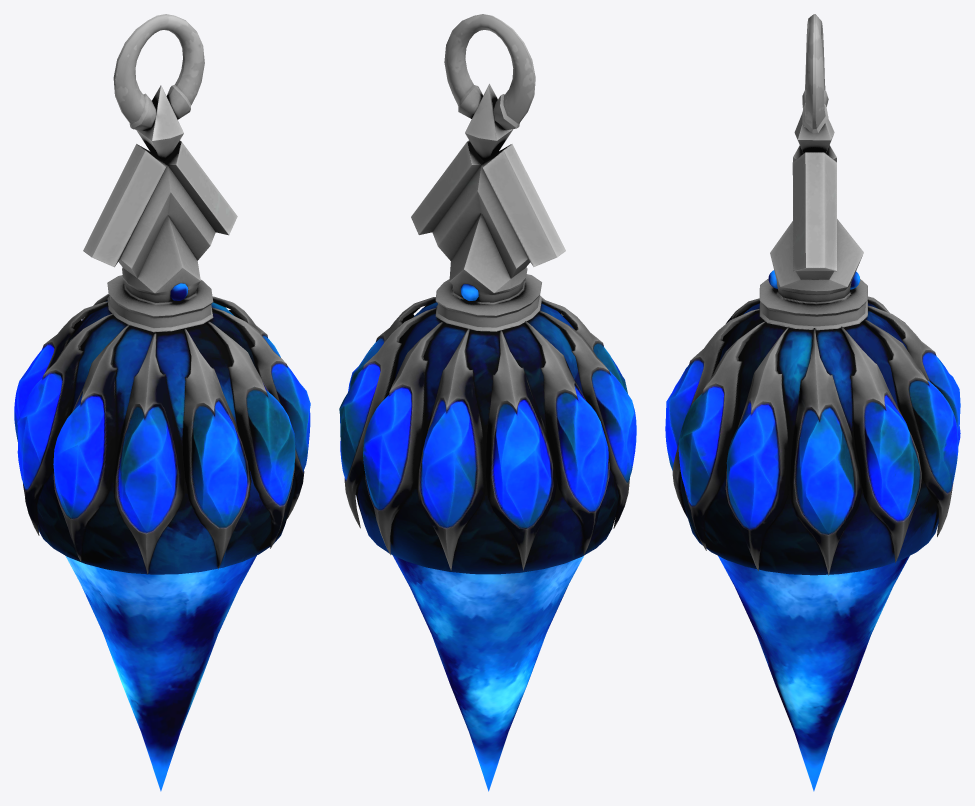
Rendered from Kriaz 1.fbx.
The picture shows the model from 3 angles, left to right: view 1: azimuth 30°, elevation 25°; view 2: azimuth 150°, elevation 25°; view 3: azimuth 270°, elevation 25°; orthographic projection.
Visible parts, largest first — view 1: Kriaz 1; view 2: Kriaz 1; view 3: Kriaz 1.
Part boxes in pixels (x1,y1,x2,y2): Kriaz 1: (14,14,310,791); Kriaz 1: (339,14,636,791); Kriaz 1: (665,14,960,791).
Size of the model in its own units: 6.65 by 6.62 by 19.18.
Materials: 1 (1 with a texture image).
